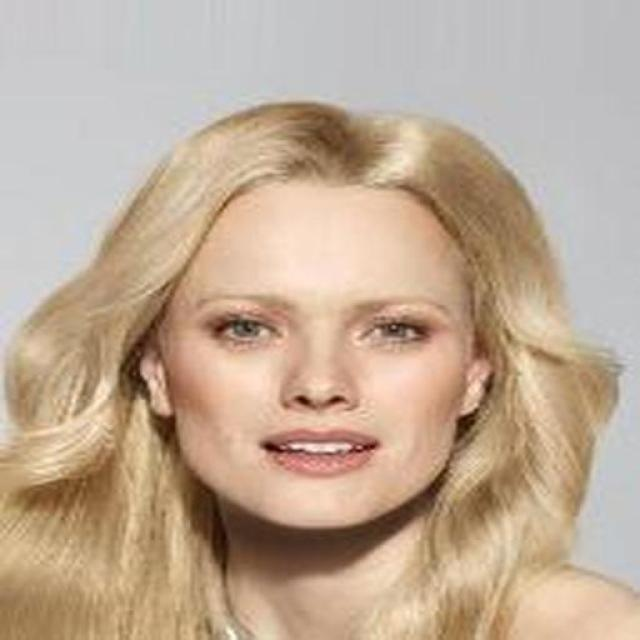bareface: (167, 116, 519, 509)
